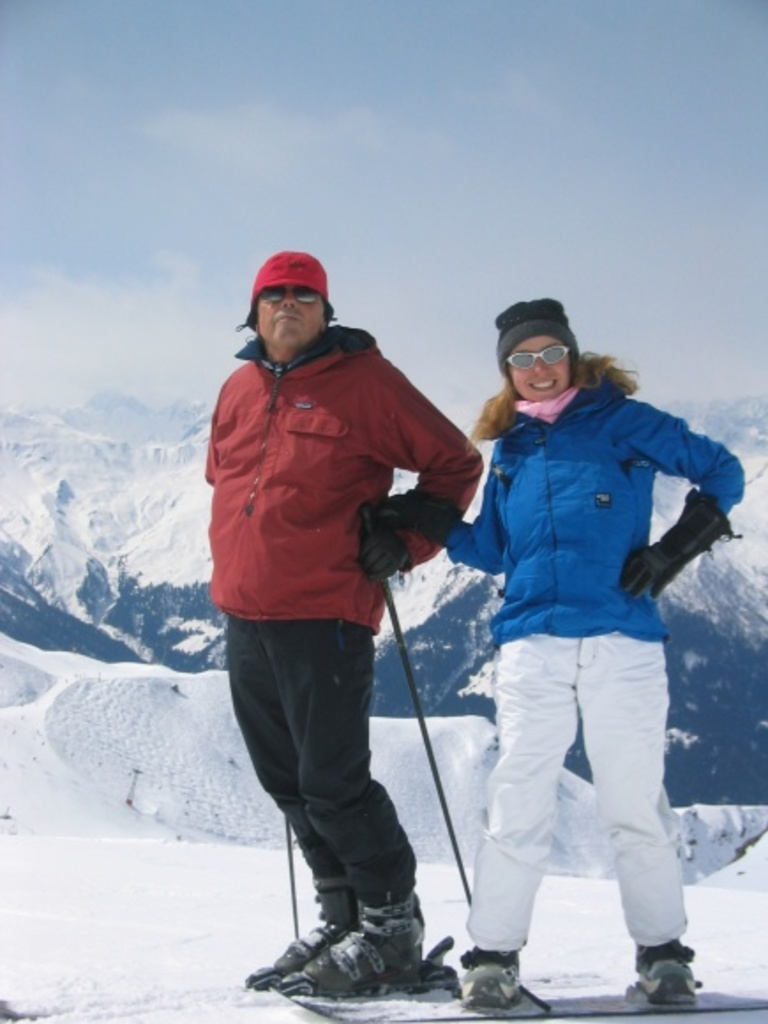Person: (432, 298, 746, 1016), (204, 250, 483, 996)
